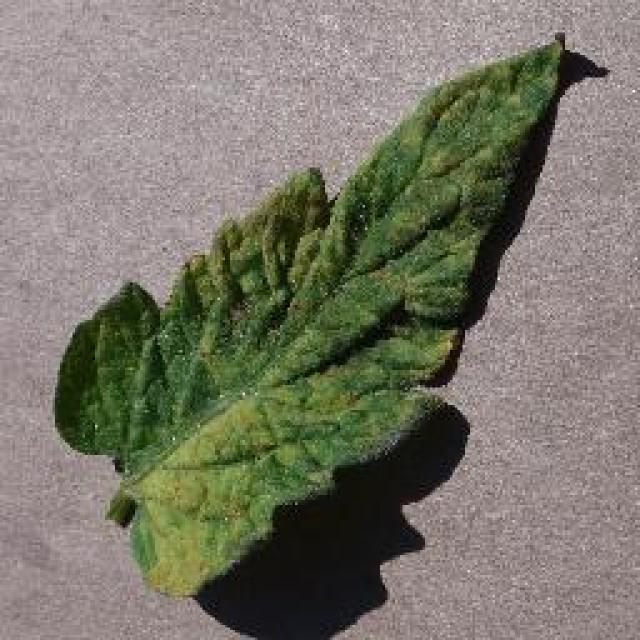Tomato mold leaf: (51, 34, 569, 604)
